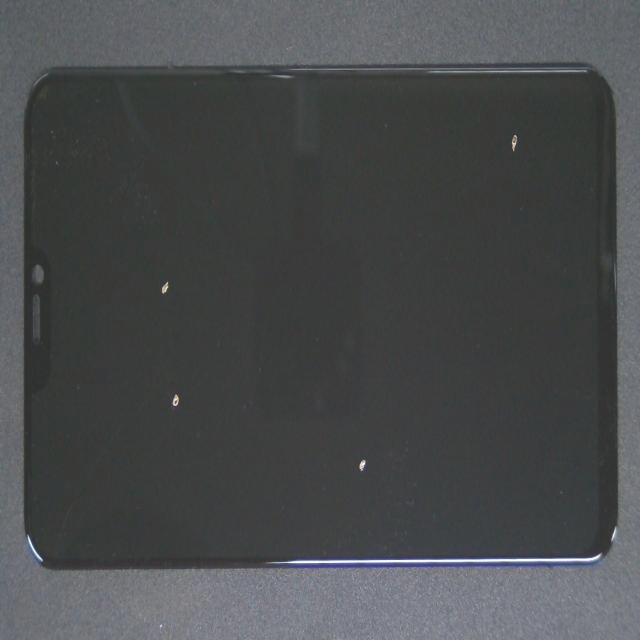stain: (209, 196, 553, 640), (214, 51, 640, 249), (95, 189, 269, 558), (112, 141, 266, 400)
